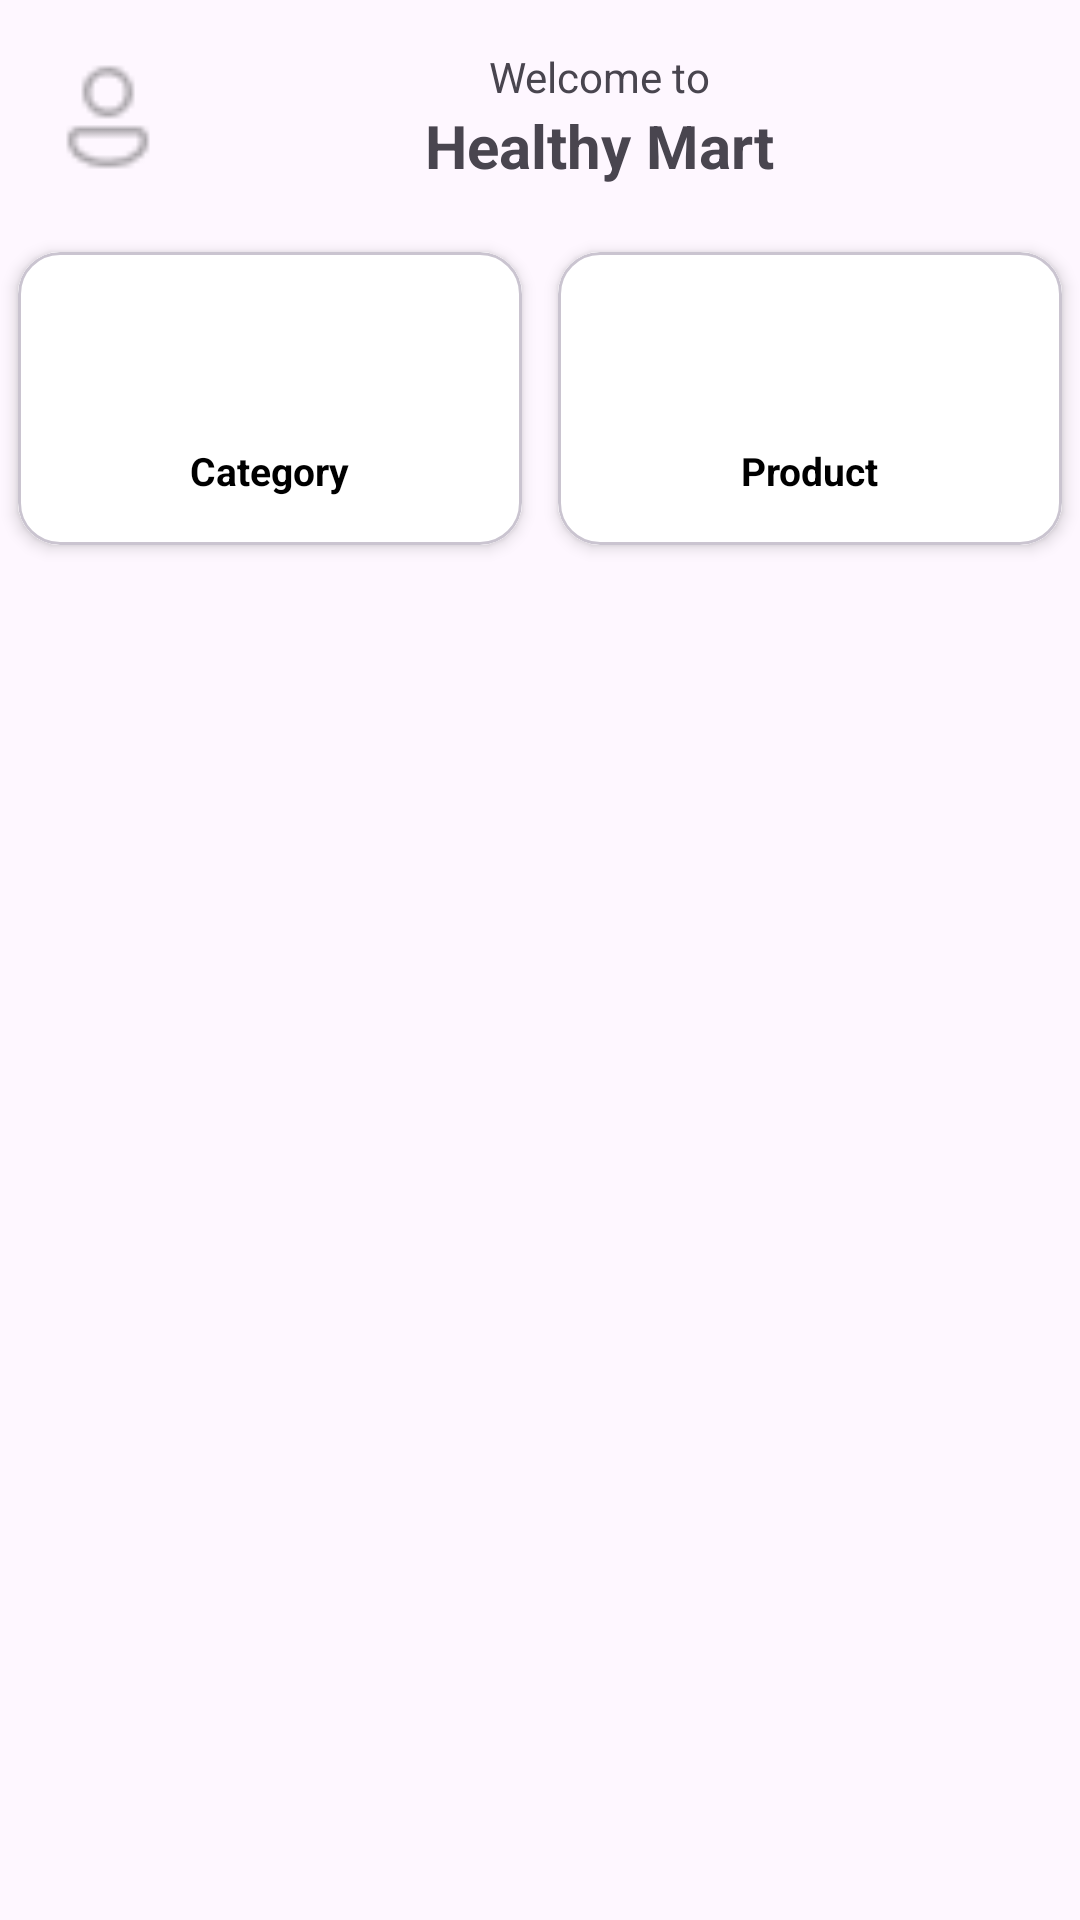

Where icons sit on this 1080*1920 app screen, as (x1, y1, x2, y2):
profile: (67, 66, 149, 168)
